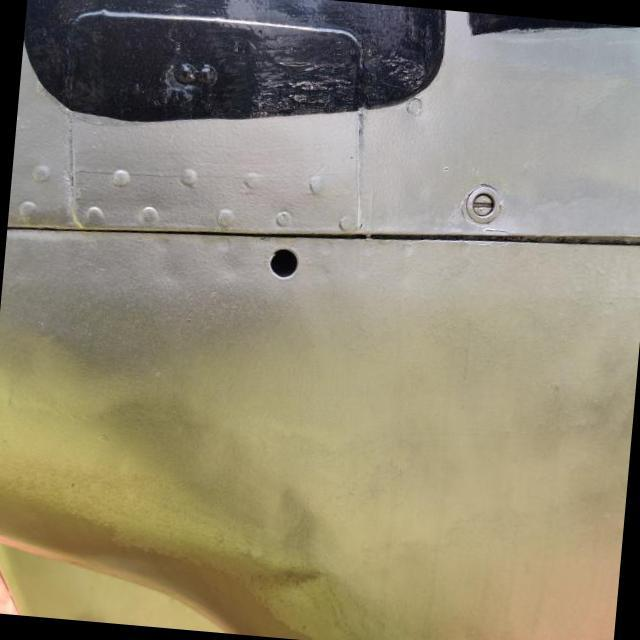Fastener Damage: (238, 215, 324, 308)
